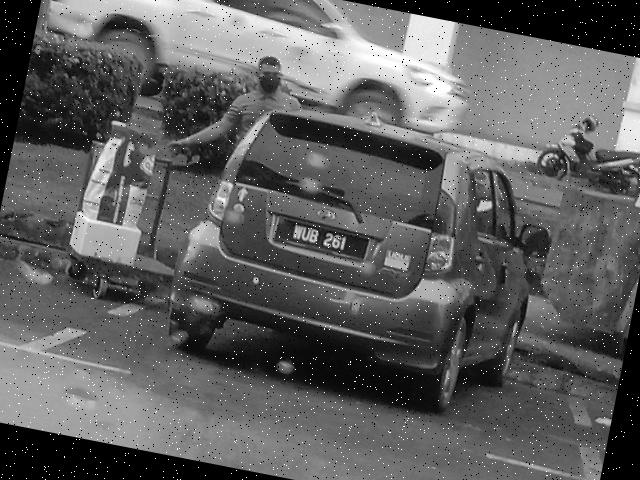License_Plate: (273, 216, 373, 263)
car: (155, 77, 557, 423)
